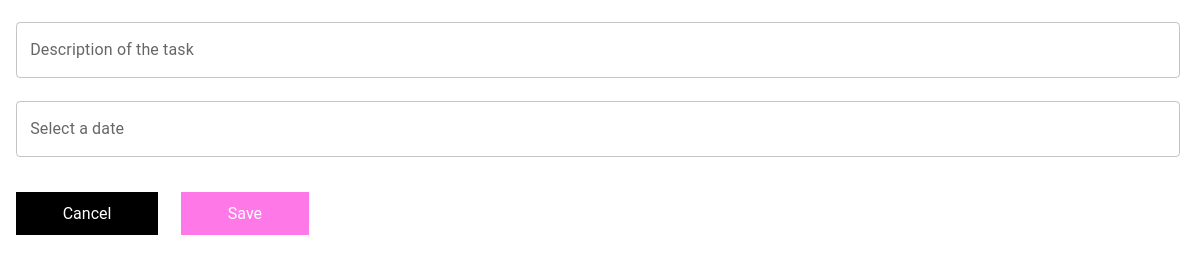
it: TaskForm Component › should show error message if "Description" is empty and "Save" is clicked
# Simula clic en el botón Save
What coordinates should you click on to do the following:
click the button "Save"
I would click on:
 (245, 213)
Its box is [181, 192, 309, 235].
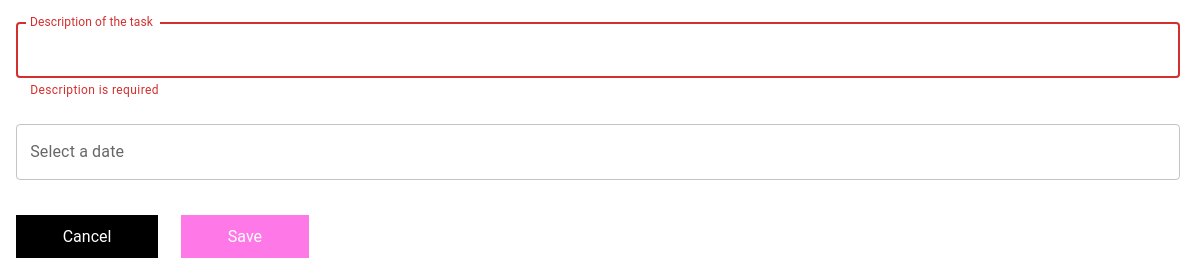
Expected: the text "Description is required" is shown, [30, 83, 159, 97]
